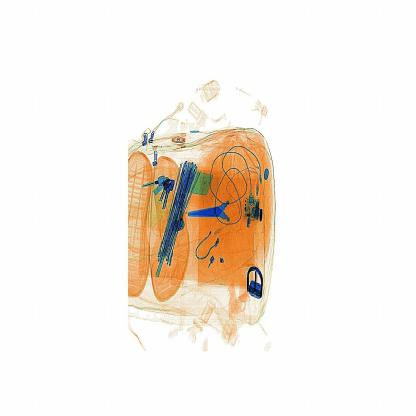gun: (184, 179, 263, 242)
